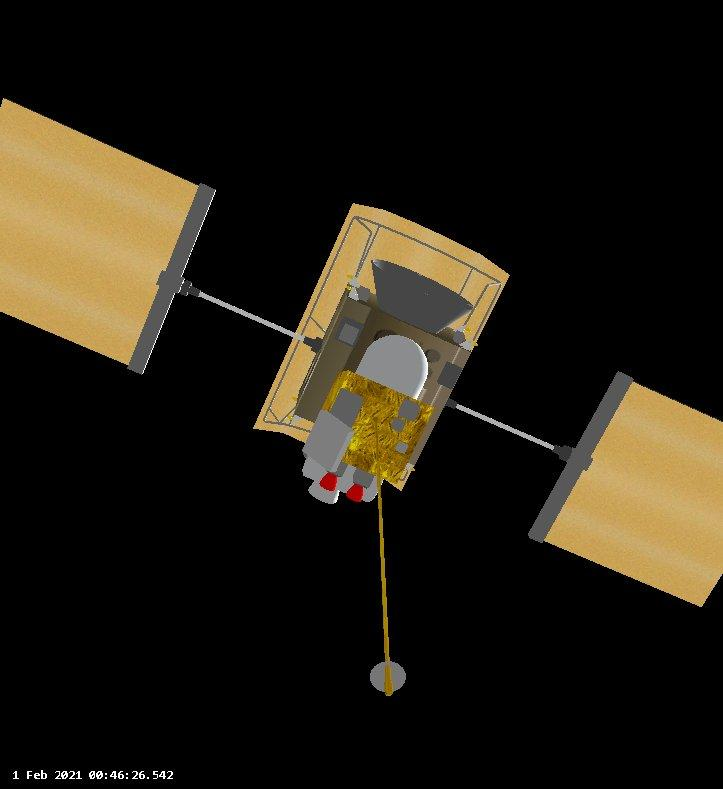antenna: (366, 659, 409, 699)
body: (292, 288, 476, 487)
solar: (0, 87, 222, 382), (522, 355, 723, 613)
thruster: (367, 253, 479, 336), (306, 464, 349, 506), (343, 480, 368, 507), (316, 468, 341, 494)
